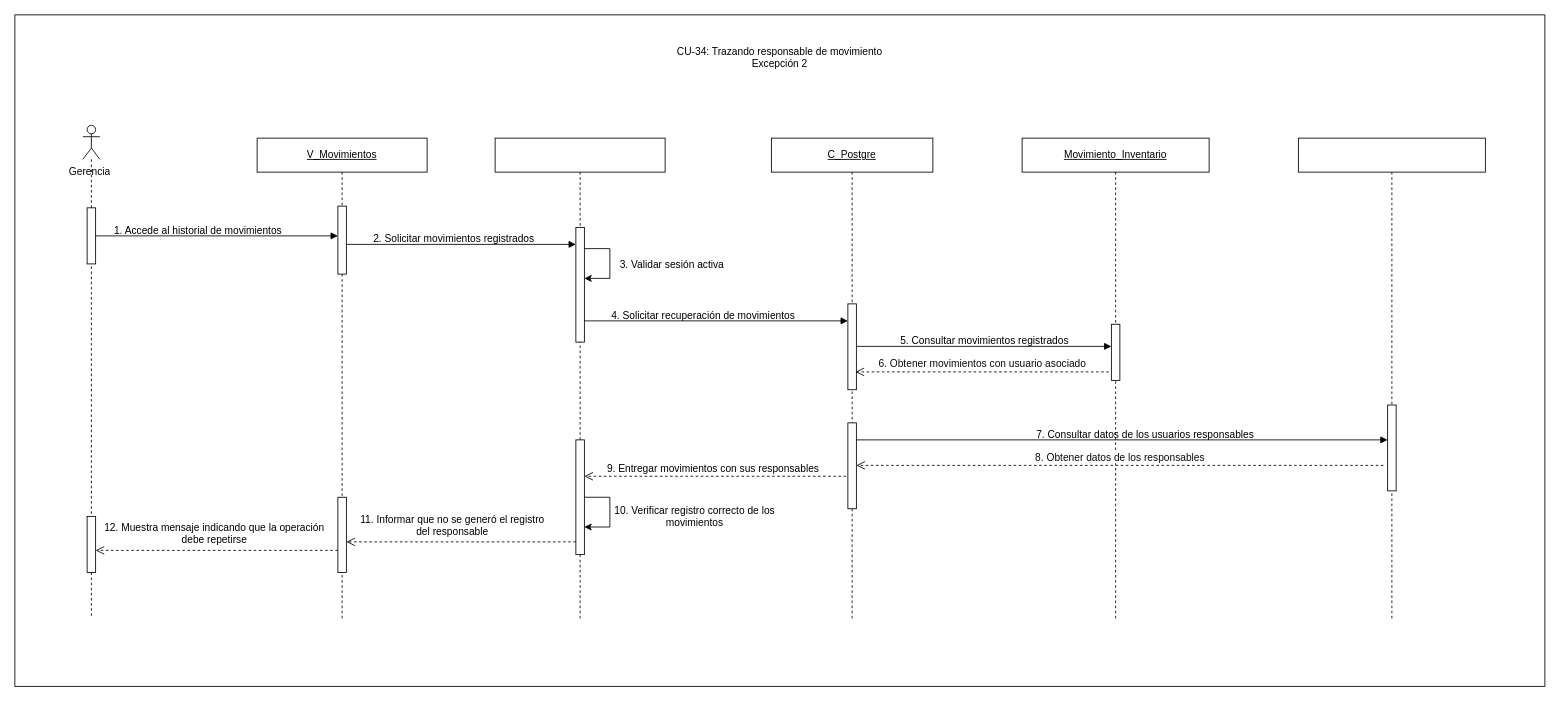
Image size: 1560x701. Some labels were removed from this diagram. The centre of each missing label's shape, as x and y in pixels:
C_movimientos: pixel 579 377
Usuario: pixel 1391 377
